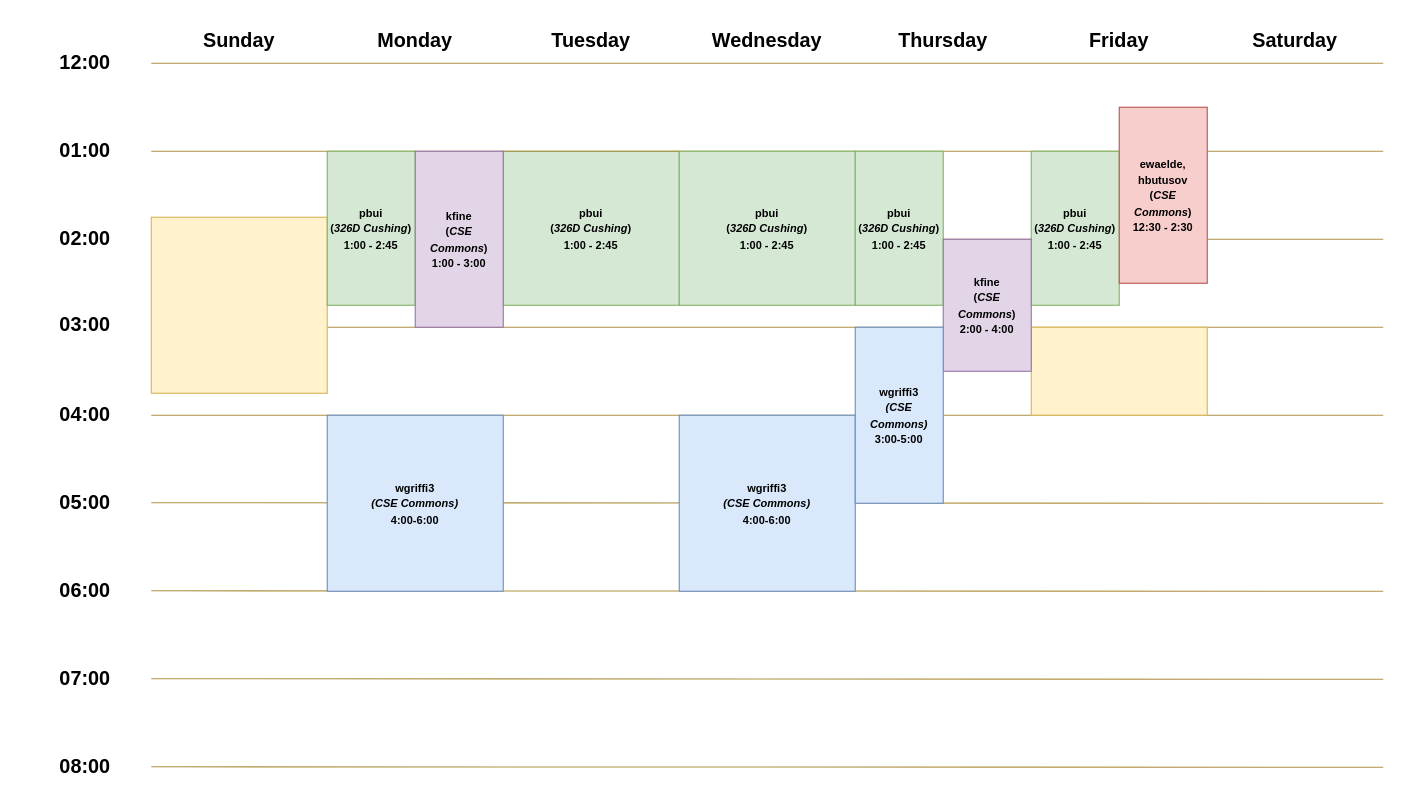
Image size: 1404x807. Some labels were removed from this diagram. Each missing label, with the centre of its shape:
"lwardhan ( CSE Commons ) 1:45 - 3:45" belongs at (x=238, y=304).
"lwardhan ( CSE Commons ) 3:00 - 4:00" belongs at (x=1118, y=370).
